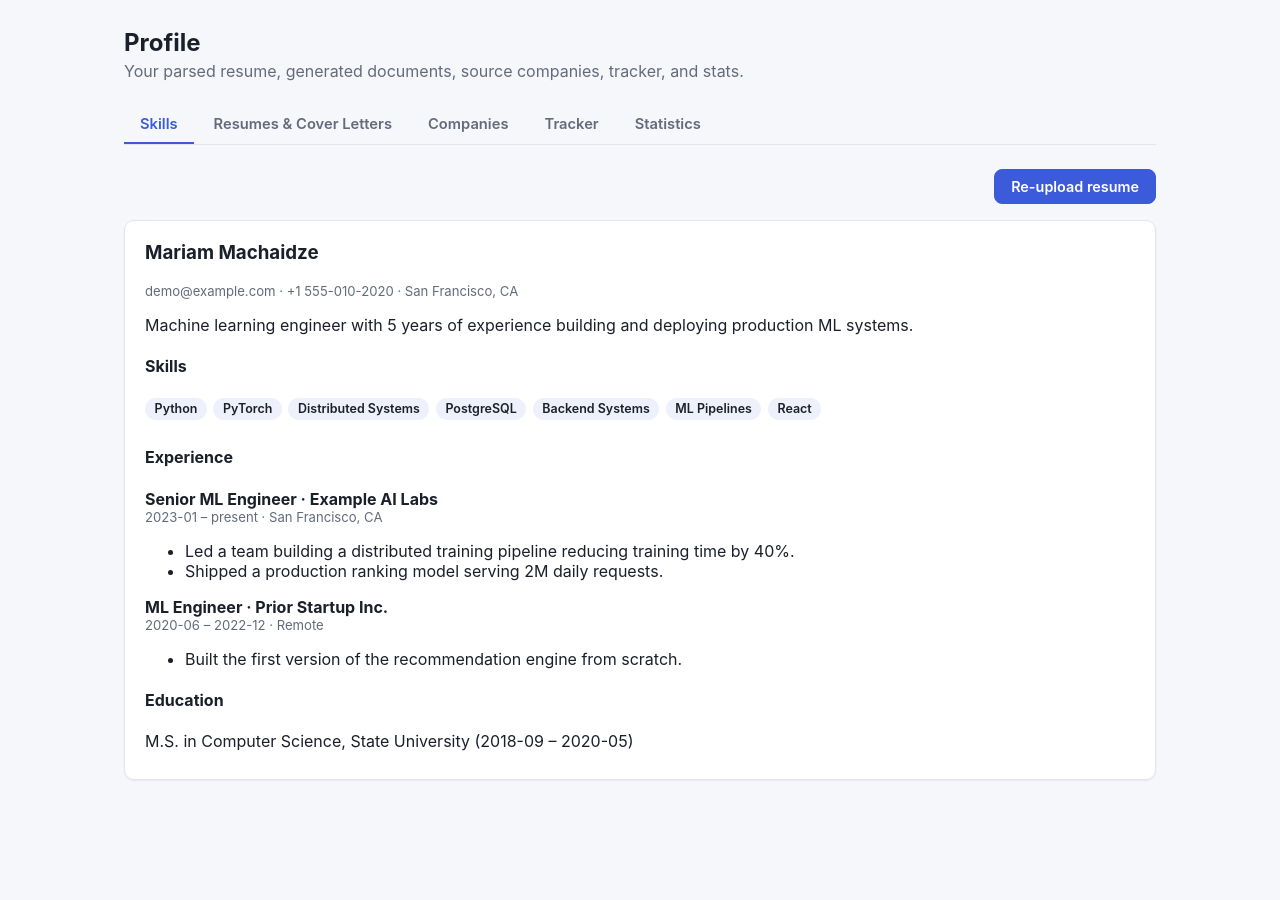
it: ProfilePage › switches to the Resumes & Cover Letters tab and lists documents
This screenshot has width=1280, height=900.
Expected: the heading "Mariam Machaidze" is shown, x1=145 y1=241 x2=318 y2=264
Click the tab "Resumes & Cover Letters" at point(303, 125), box x1=198 y1=105 x2=408 y2=144
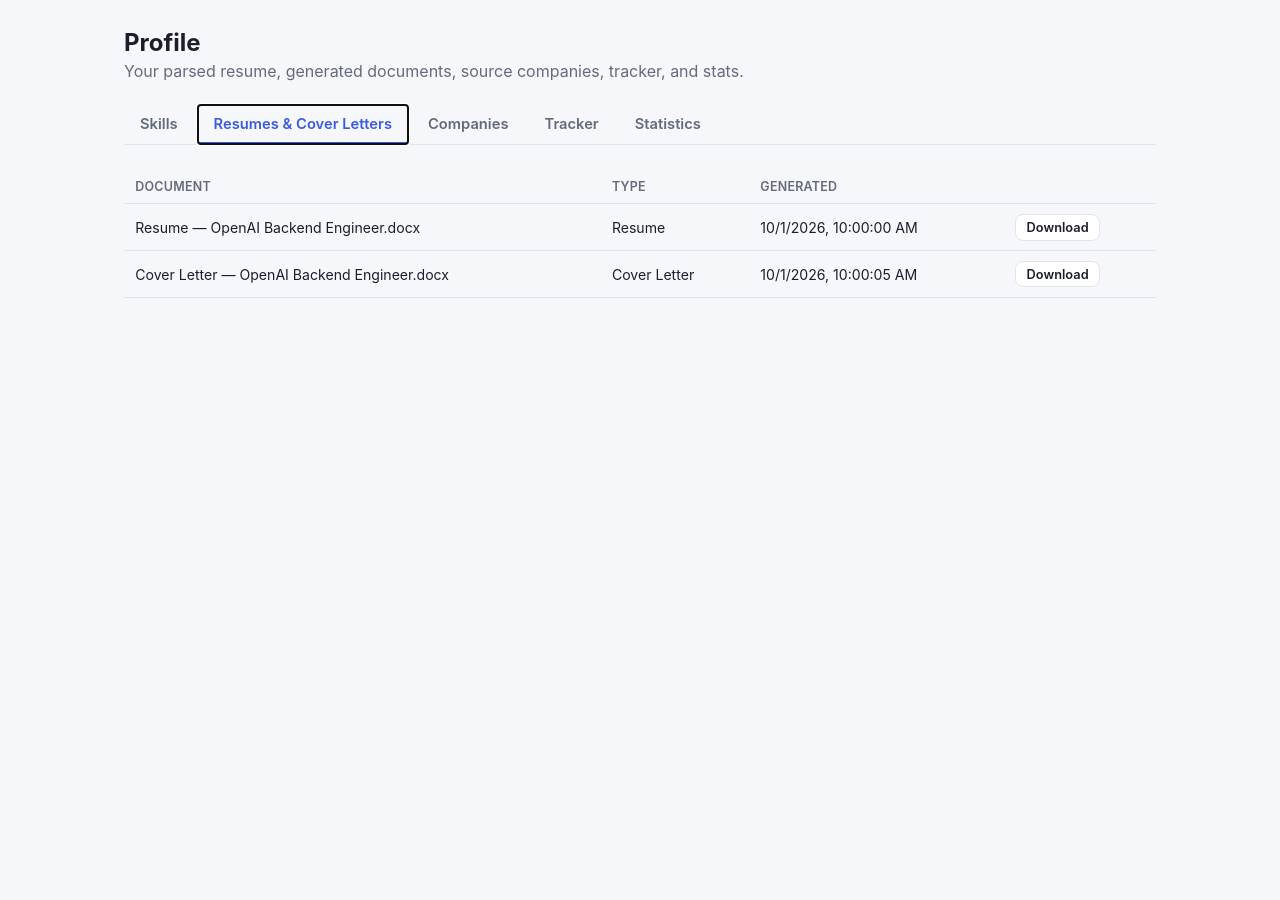
Expected: the text "Resume — OpenAI Backend Engineer.docx" is shown, x1=124 y1=204 x2=601 y2=251
